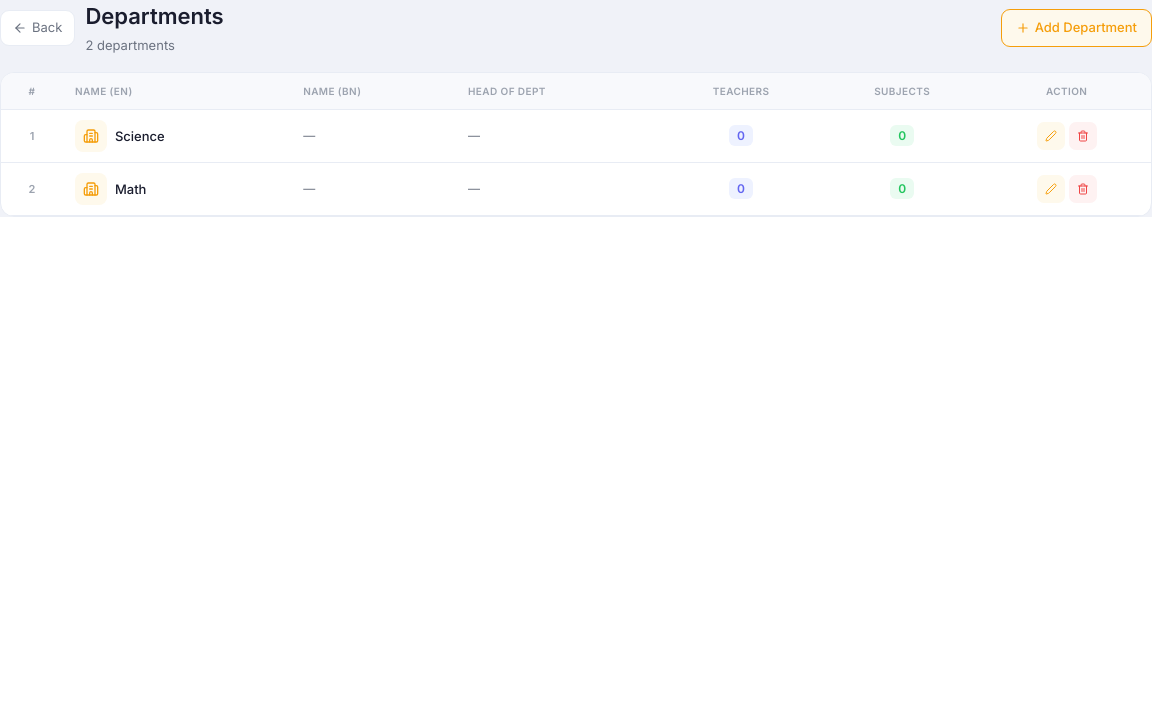
Test: DepartmentsPage — Phase 7 server flows › delete refusal keeps the row and shows the error
What coordinates should you click on to do the following:
click the button titled "Delete" in the row of "Science"
I would click on:
 (1083, 136)
Its box is [1069,122,1097,150].
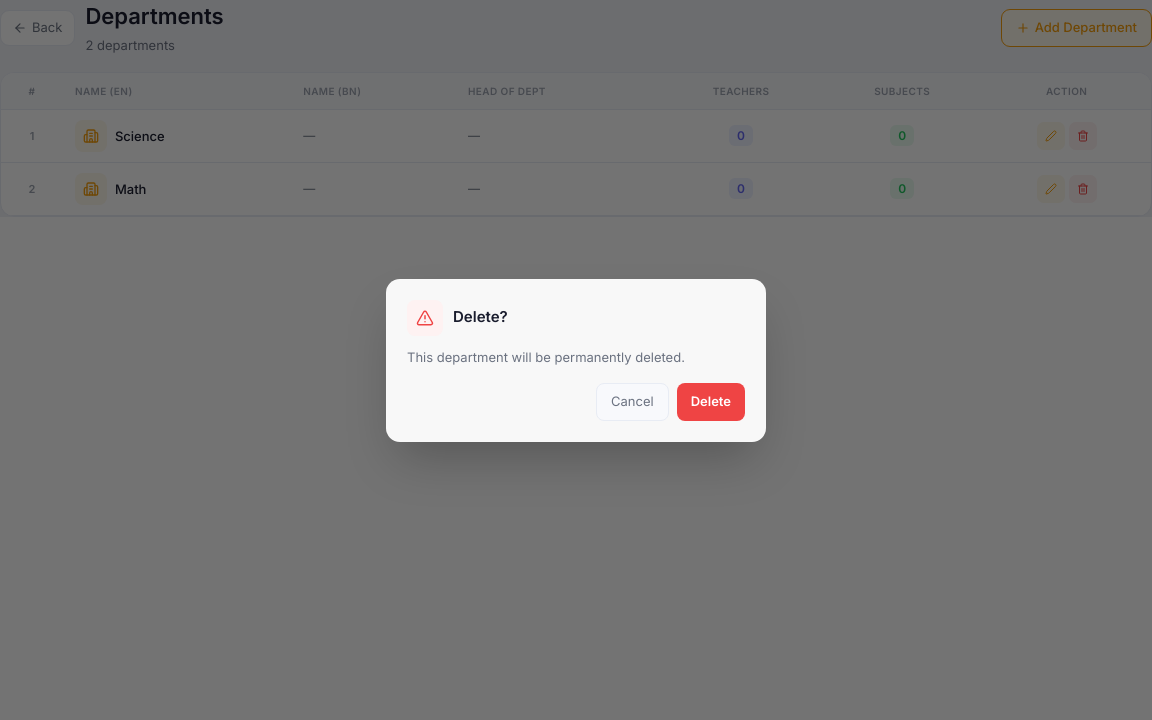
What coordinates should you click on to do the following:
click the button "Delete"
I would click on:
 (711, 402)
Its box is [677,383,745,420].
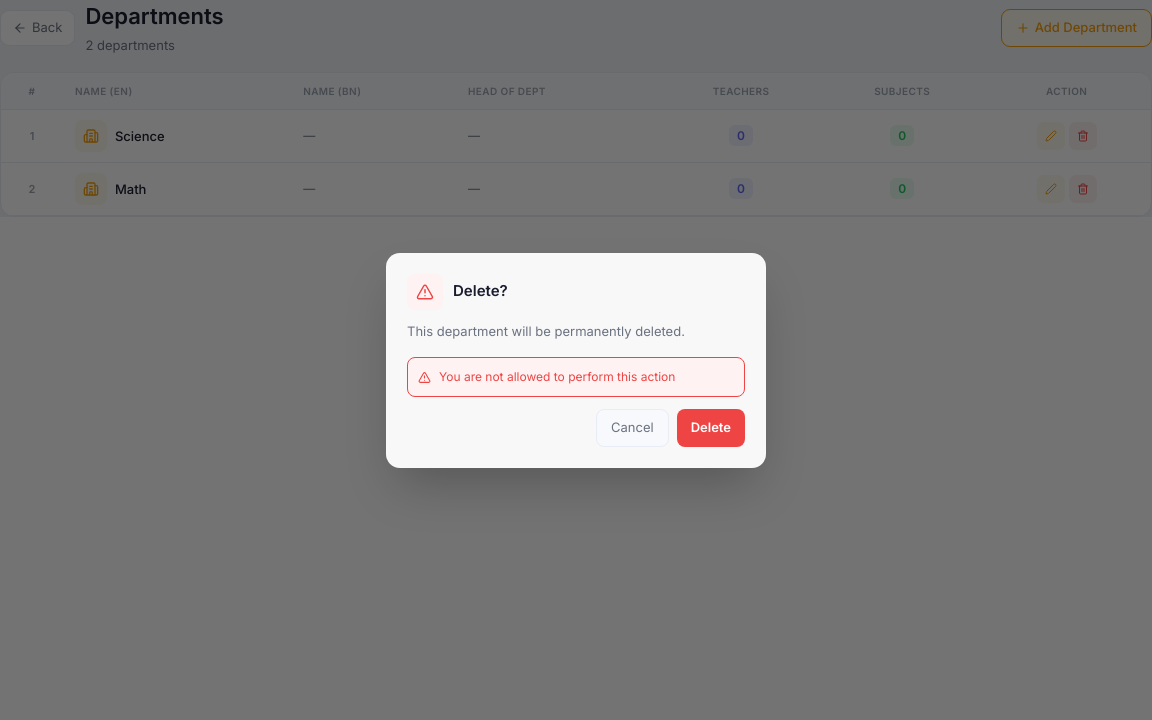
Expected: the text "Science" is shown, [115,128,165,144]
Expected: the text "You are not allowed to perform this action" is shown, [407,357,745,397]
